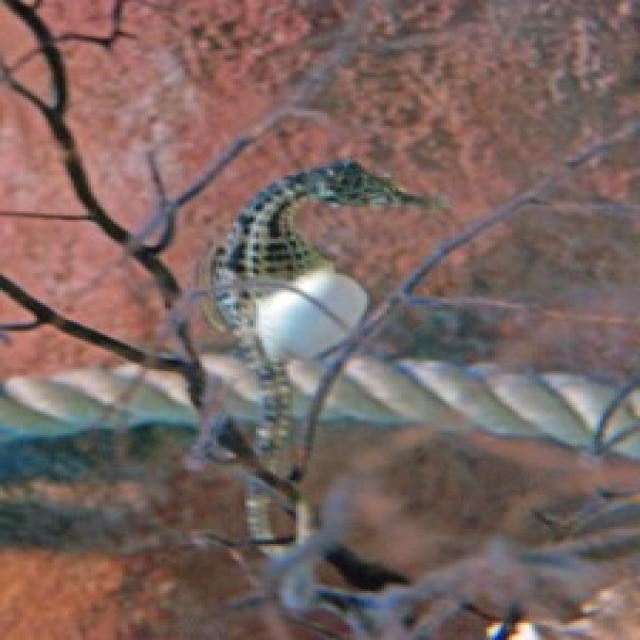Seahorse: (191, 154, 435, 378)
